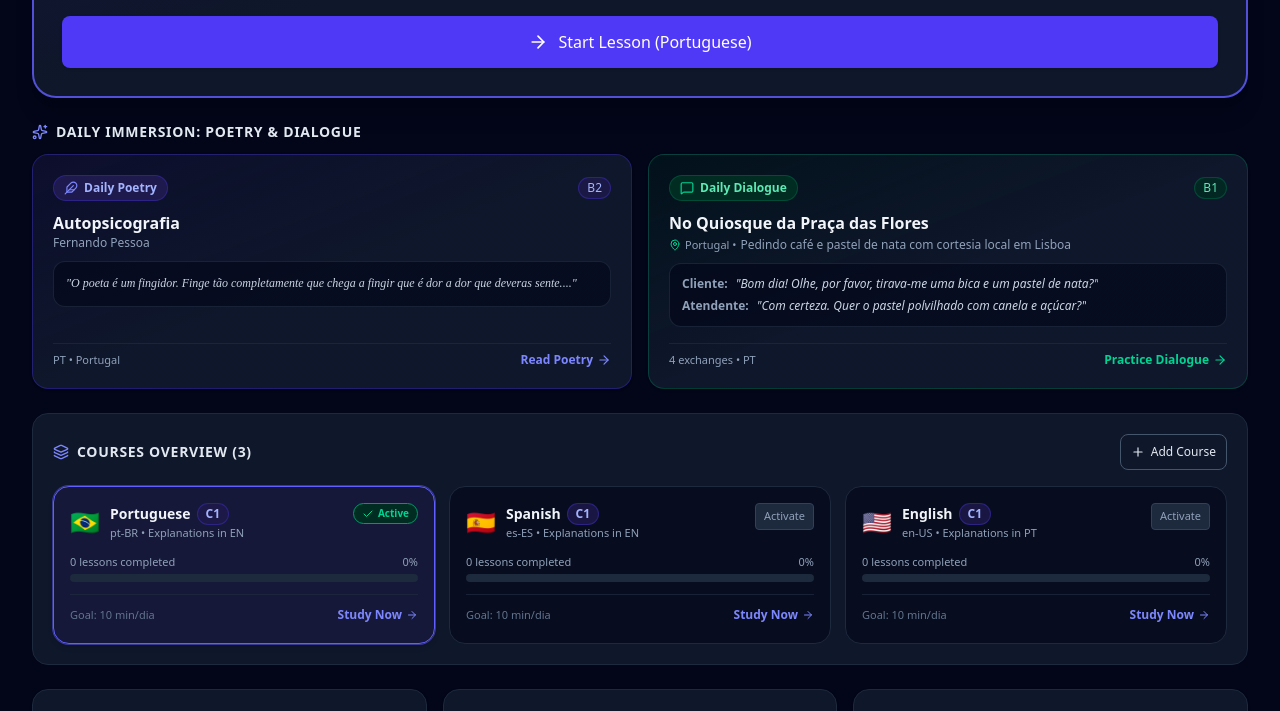
it: Lexilume Dashboard Redesign & Information Architecture Suite › 5. Opens Daily Conversation modal on click and renders interactive dialogue lines
The image size is (1280, 711).
(page scrolled)
Click the text "Practice Dialogue": (1157, 360) [1104, 352, 1209, 368]
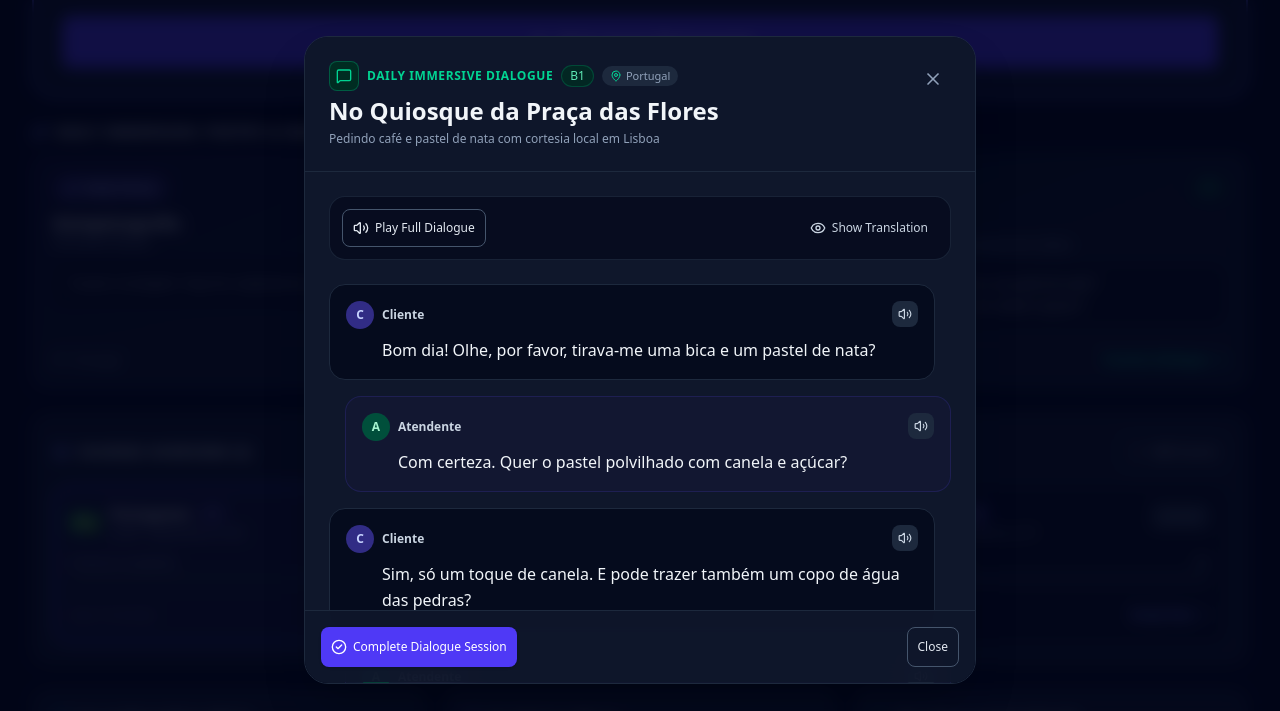
Result: the text "Daily Immersive Dialogue" is shown at [367, 68, 553, 84]
Result: the text "Play Full Dialogue" is shown at [375, 220, 475, 236]
Result: the button named "close" is shown
Click the button named "close": (933, 79) [915, 61, 951, 97]
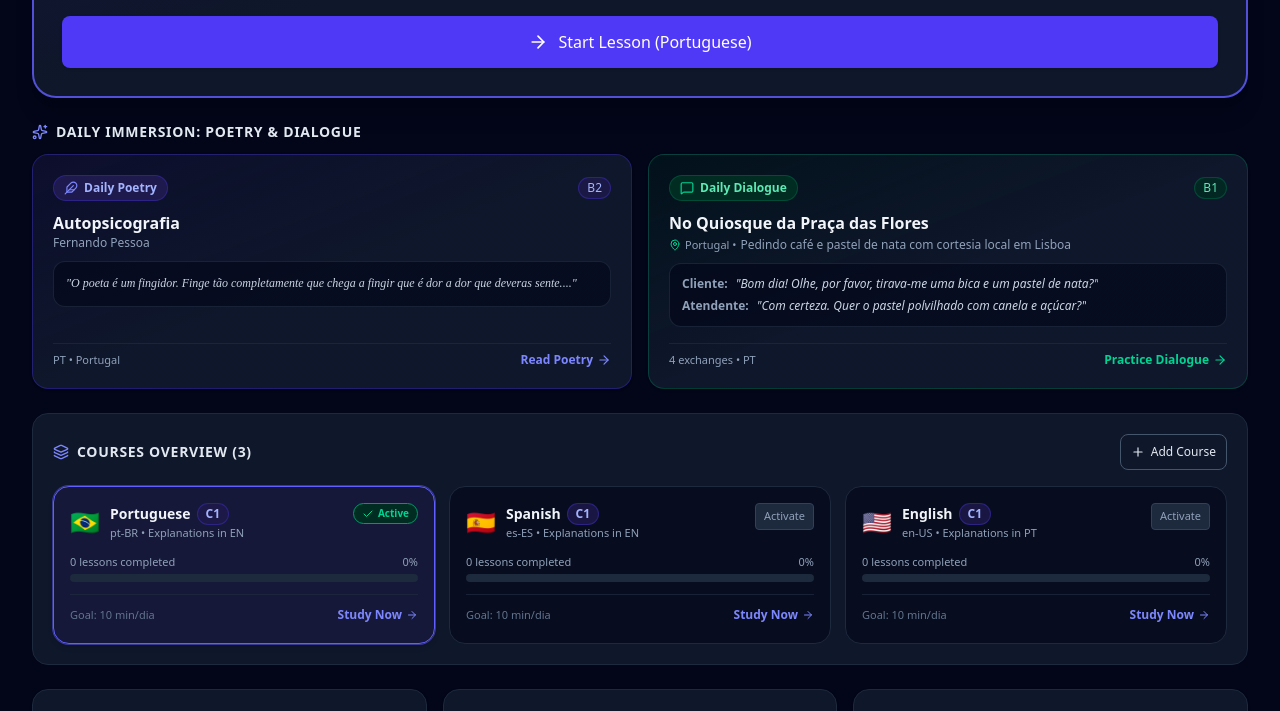
Result: the text "Daily Immersive Dialogue" is gone
